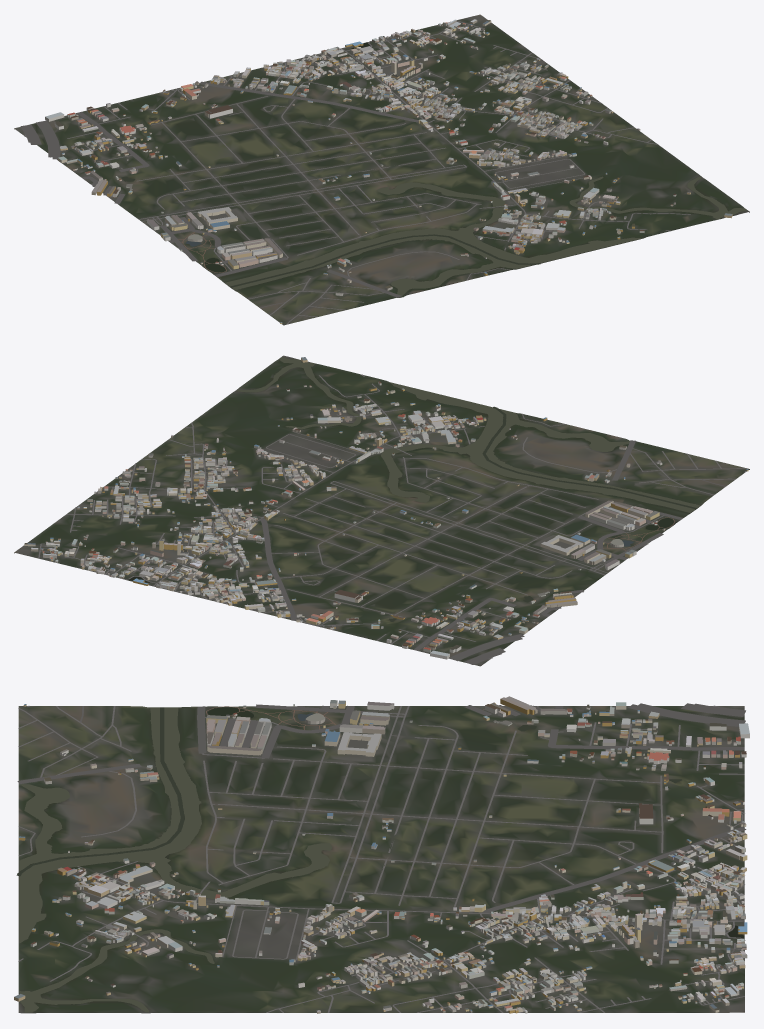
3 views of the same model, one above another, from view 1: azimuth 30°, elevation 25°; view 2: azimuth 150°, elevation 25°; view 3: azimuth 270°, elevation 25° (orthographic). The views are drawn at different scales.
Parts seen in each view (by area): view 1: ground, buildings, roads, water; view 2: ground, buildings, roads, water; view 3: ground, buildings, roads, water.
Boxes of the visible parts, x1,y1,x2,y2 form: ground: (14, 14, 749, 325); buildings: (45, 19, 732, 323); roads: (20, 20, 690, 324); water: (121, 42, 746, 296); ground: (14, 355, 749, 666); buildings: (24, 357, 748, 659); roads: (38, 374, 746, 664); water: (127, 357, 700, 621); ground: (18, 706, 744, 1013); buildings: (14, 696, 749, 1013); roads: (17, 703, 746, 1012); water: (16, 707, 744, 1012).
Bounding box in the file's own units: 1433 × 39.23 × 1420.
